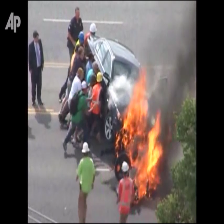fire_h: (121, 68, 163, 199)
fire_l: (115, 133, 121, 158), (116, 164, 120, 170)
